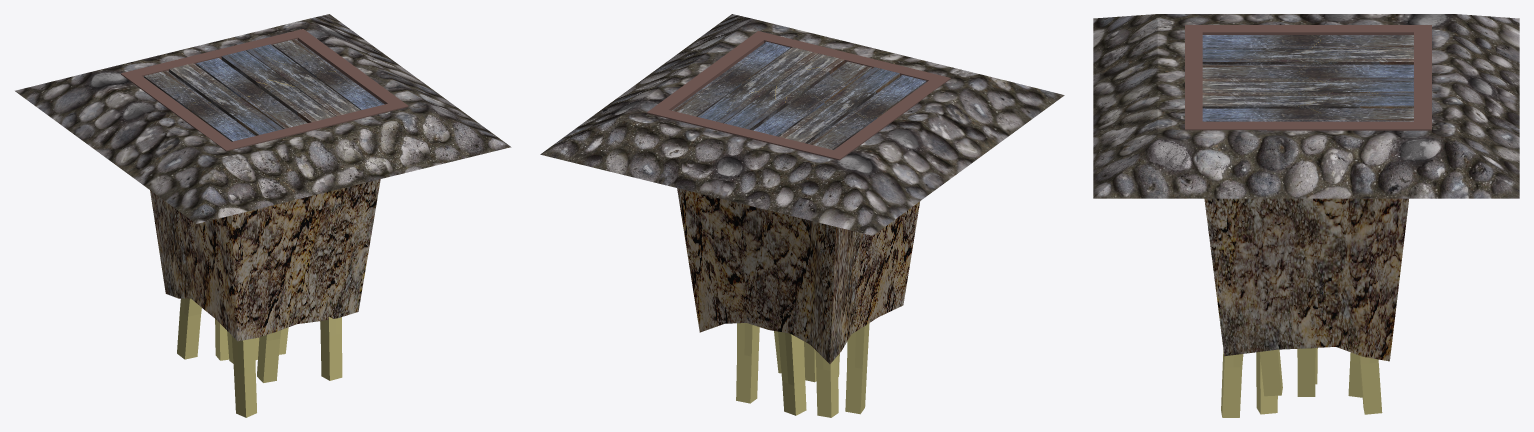
The model's file is spikepit.fbx.
3 views of the same model, side by side, from view 1: azimuth 30°, elevation 25°; view 2: azimuth 150°, elevation 25°; view 3: azimuth 270°, elevation 25° (orthographic). The views are drawn at different scales.
Visible parts, largest first — view 1: pit, rim, Cube.008, Cube.006, Cube.007, wooden Planks.001, wooden Planks.004, wooden Planks.002, wooden Planks.000, wooden Planks.003, wooden Planks.005, Cube.003 (+10 smaller); view 2: pit, rim, Cube.004, Cube.005, Cube.008, wooden Planks.004, Cube.007, wooden Planks.002, wooden Planks.001, wooden Planks.000, wooden Planks.005, wooden Planks.003 (+11 smaller); view 3: pit, rim, wooden Planks.001, wooden Planks.004, wooden Planks.002, wooden Planks.000, woodenPlank.003, woodenPlank.011, wooden Planks.003, wooden Planks.005, Cube.006, woodenPlank.006 (+14 smaller).
Boxes of the visible parts, box(x1,y1,x2,y2) form: pit: box(15, 14, 511, 341); rim: box(121, 29, 408, 151); Cube.008: box(231, 335, 256, 417); Cube.006: box(320, 317, 342, 380); Cube.007: box(177, 298, 201, 359); wooden Planks.001: box(195, 58, 263, 97); wooden Planks.004: box(188, 102, 255, 141); wooden Planks.002: box(317, 71, 384, 109); wooden Planks.000: box(241, 91, 307, 128); wooden Planks.003: box(272, 39, 338, 77); wooden Planks.005: box(144, 70, 209, 109); Cube.003: box(257, 330, 281, 382); pit: box(540, 14, 1064, 363); rim: box(647, 31, 950, 160); Cube.004: box(778, 331, 806, 415); Cube.005: box(736, 323, 759, 403); Cube.008: box(845, 323, 869, 414); wooden Planks.004: box(853, 75, 926, 117); Cube.007: box(815, 350, 838, 417); wooden Planks.002: box(717, 41, 790, 84); wooden Planks.001: box(753, 95, 824, 136); wooden Planks.000: box(800, 61, 871, 102); wooden Planks.005: box(808, 111, 877, 149); wooden Planks.003: box(672, 77, 741, 116); pit: box(1093, 14, 1519, 361); rim: box(1185, 25, 1431, 130); wooden Planks.001: box(1298, 64, 1413, 78); wooden Planks.004: box(1202, 35, 1320, 48); wooden Planks.002: box(1202, 108, 1320, 121); wooden Planks.000: box(1202, 64, 1308, 78); woodenPlank.003: box(1283, 48, 1383, 64); woodenPlank.011: box(1233, 92, 1333, 108); wooden Planks.003: box(1310, 108, 1413, 121); wooden Planks.005: box(1311, 35, 1413, 48); Cube.006: box(1221, 350, 1243, 417); woodenPlank.006: box(1233, 78, 1331, 92).
Size of the model in its own units: 2.87 by 2.63 by 2.87.
